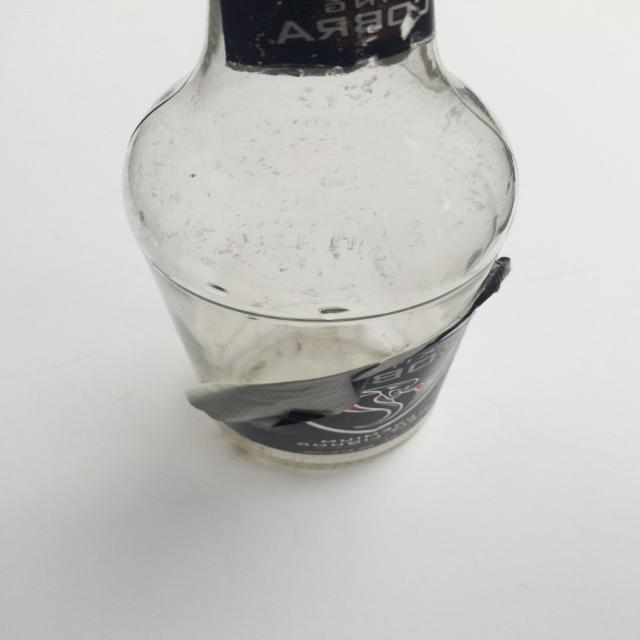glass: (122, 0, 520, 470)
